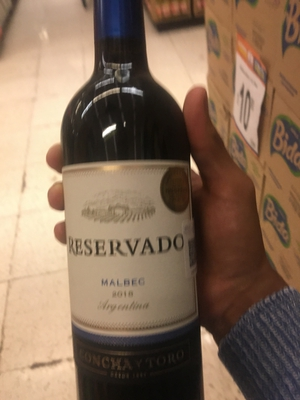reservado malbec: (53, 14, 210, 397)
